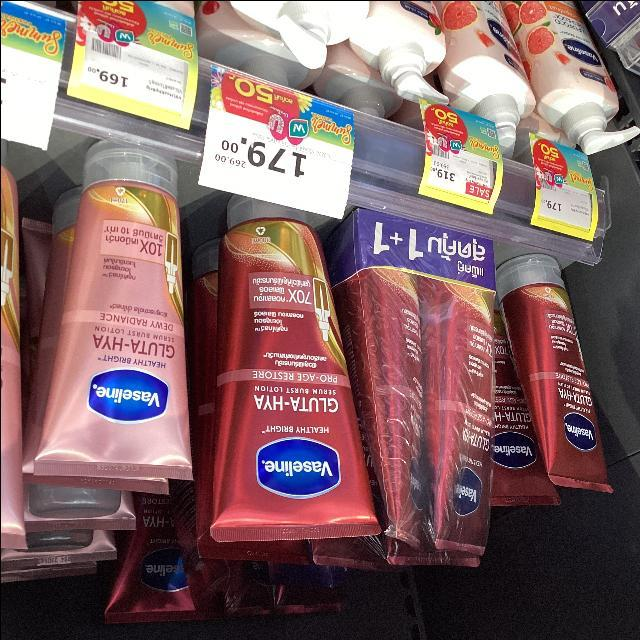Squeeze Tube: (43, 123, 640, 597)
